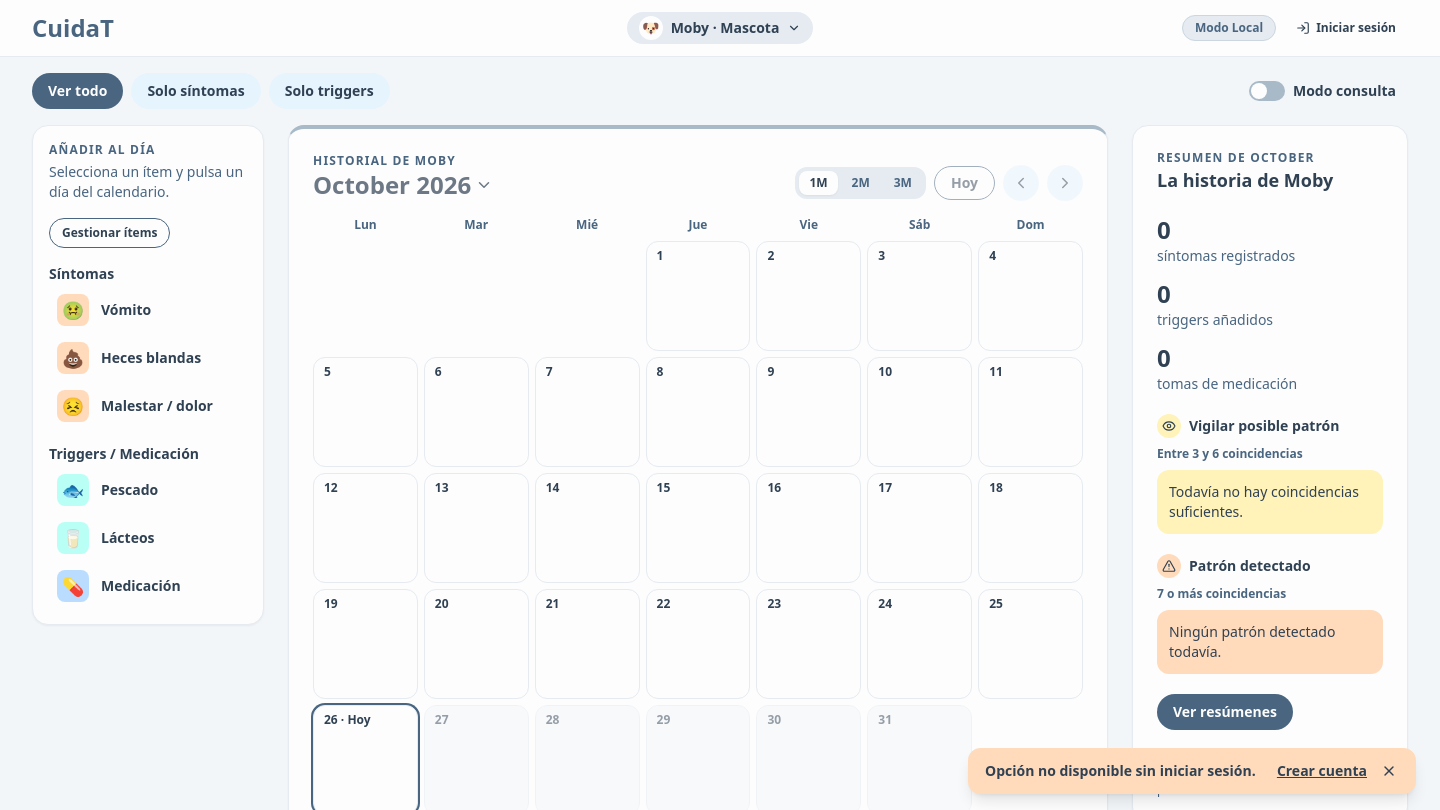
App (Phase 4: calendars, navigation and analytics) › registers without migrating the guest data when the switch is turned off
Click the button "Iniciar sesión" at {"x": 1346, "y": 28}, box [1284,16,1408,40]
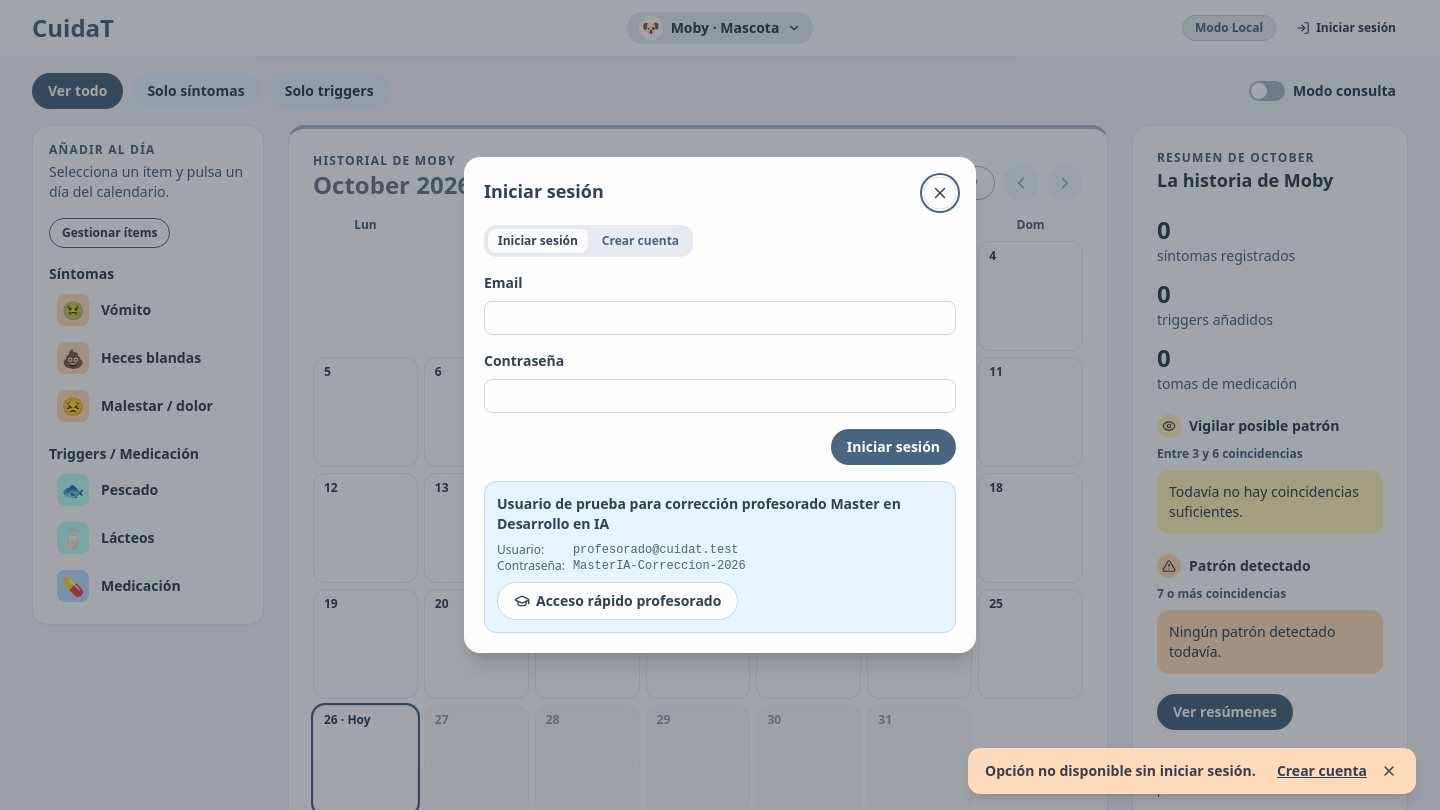
Click the button "Crear cuenta" next to "Mié" at {"x": 641, "y": 241}, box [592,229,689,253]
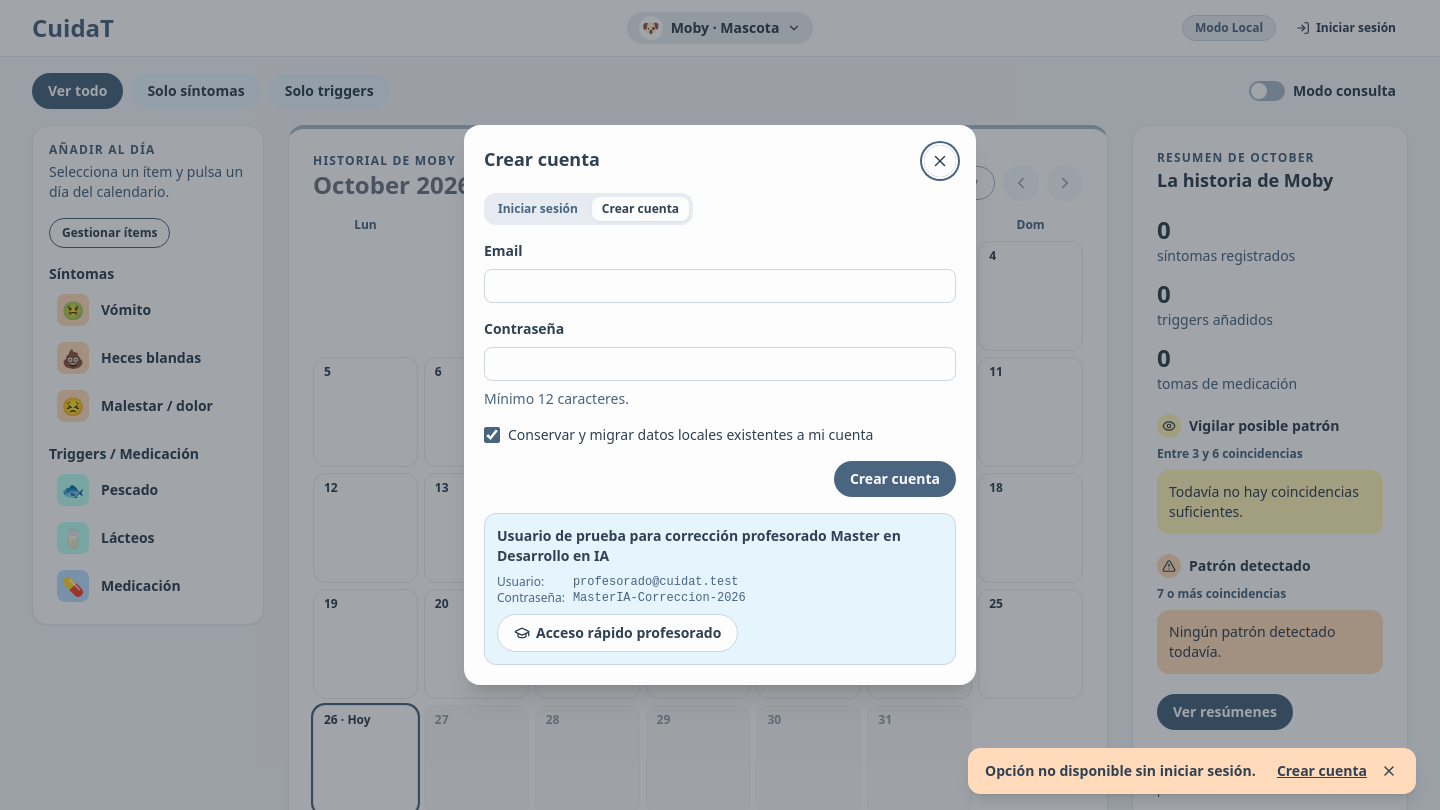
Now the checkbox labelled "Conservar y migrar datos locales existentes a mi cuenta" is checked
Now the dialog shows "Conservar y migrar datos locales existentes a mi cuenta", box [508,425,873,444]
Click the checkbox labelled "Conservar y migrar datos locales existentes a mi cuenta" at {"x": 492, "y": 435}, box [484,427,500,443]
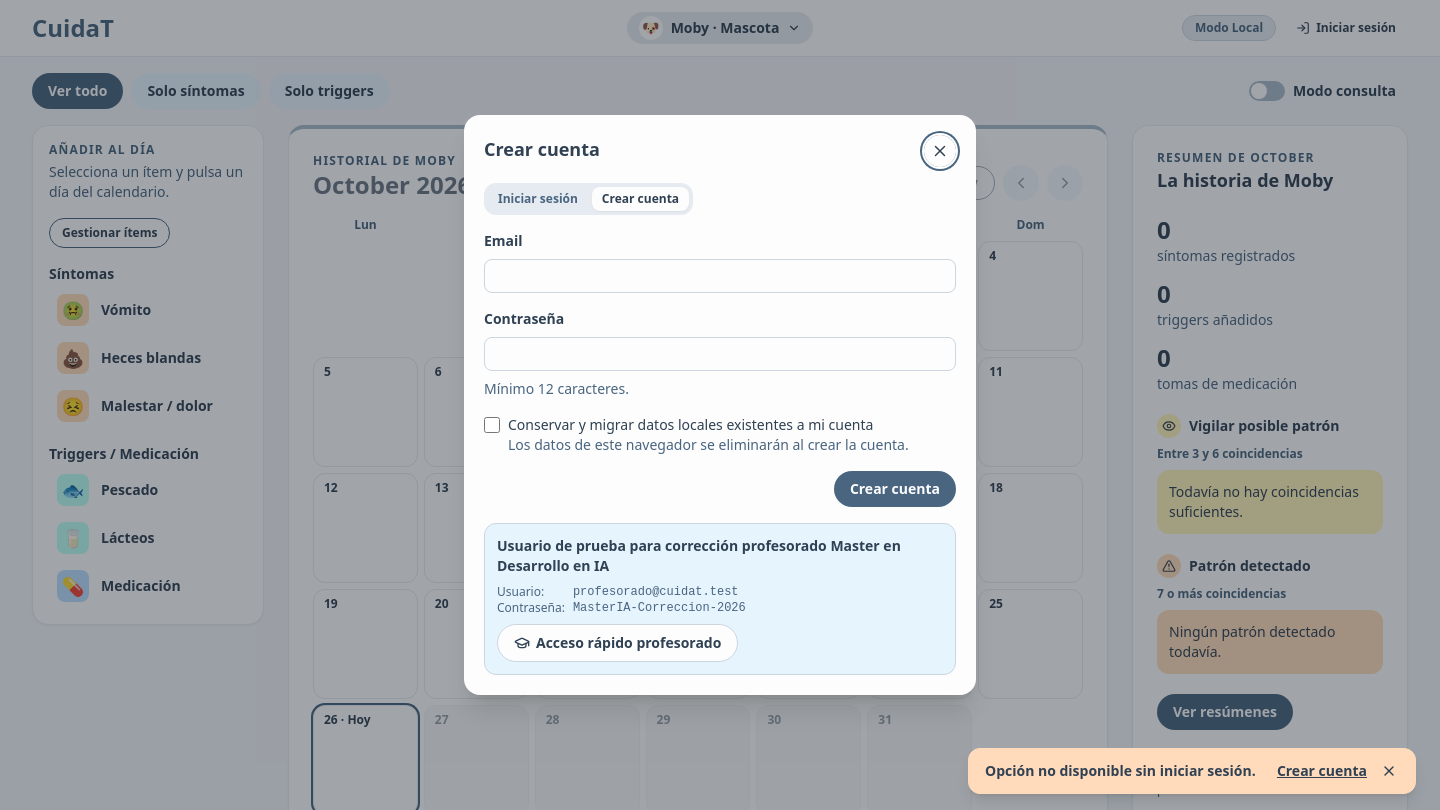
Type "ana@example.com" into the field labelled "Email" at {"x": 720, "y": 276}, box [484,259,956,293]
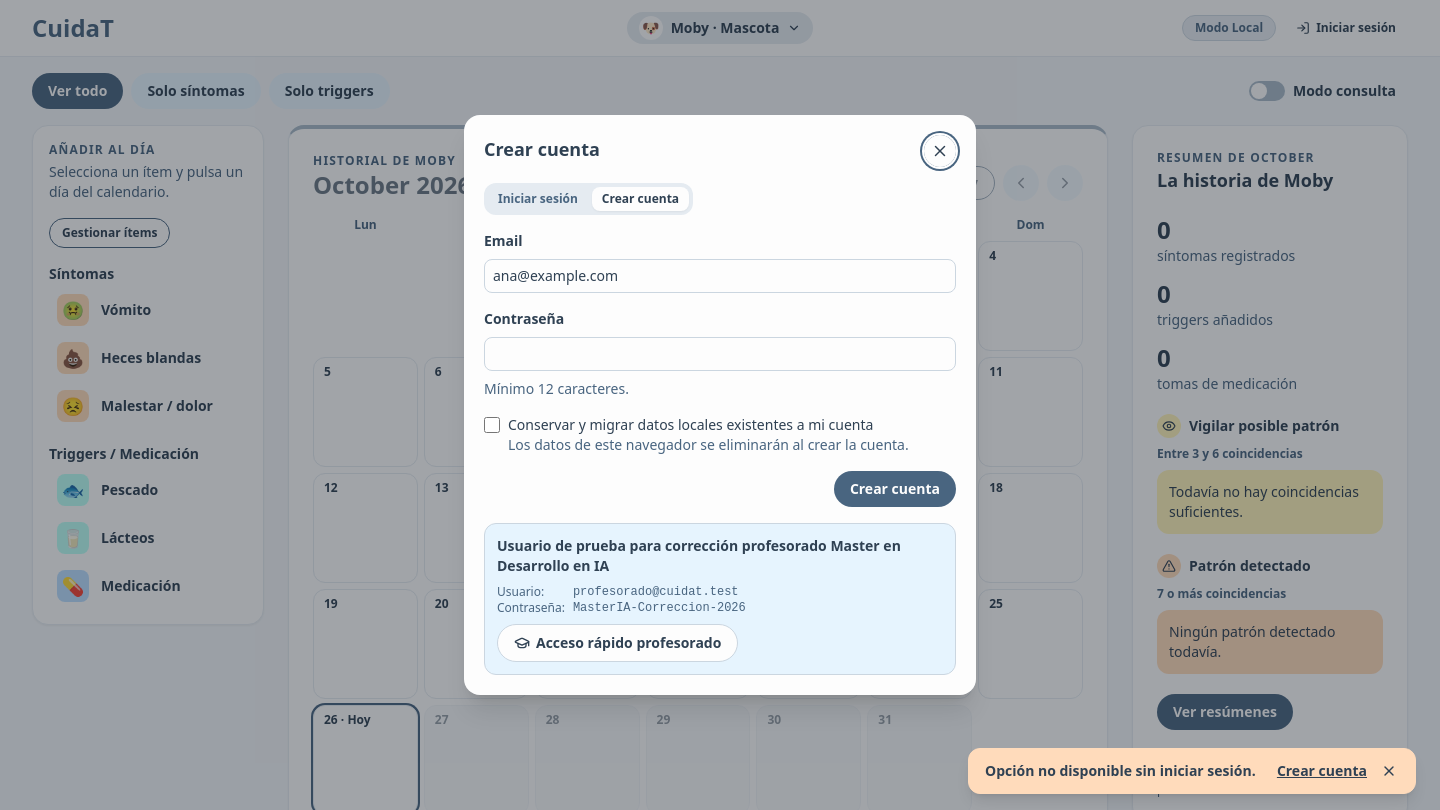
Type "una contraseña larga" into the password field labelled "Contraseña Mínimo 12 caracteres." at {"x": 720, "y": 354}, box [484,337,956,371]
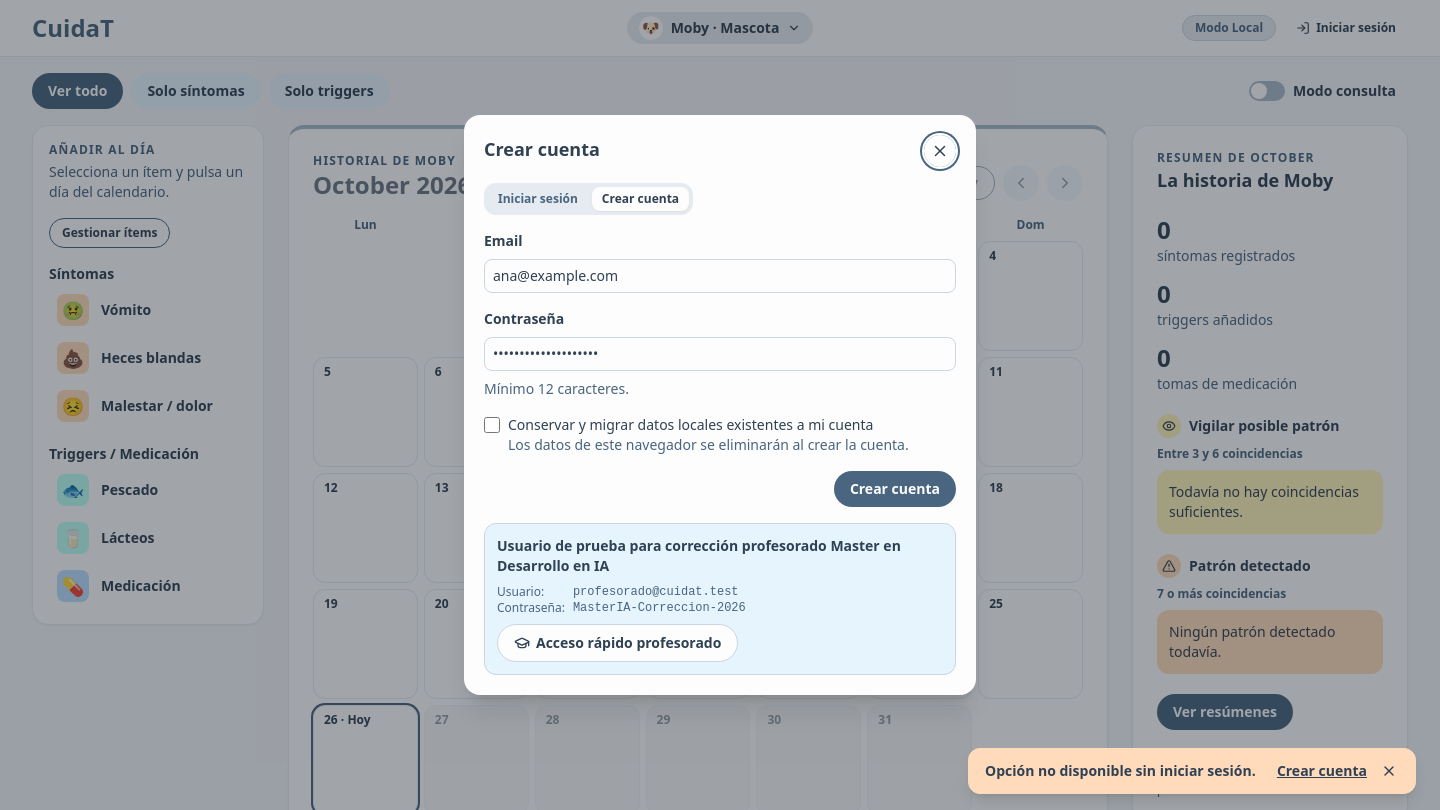
Submit the form, box [484,231,956,507]
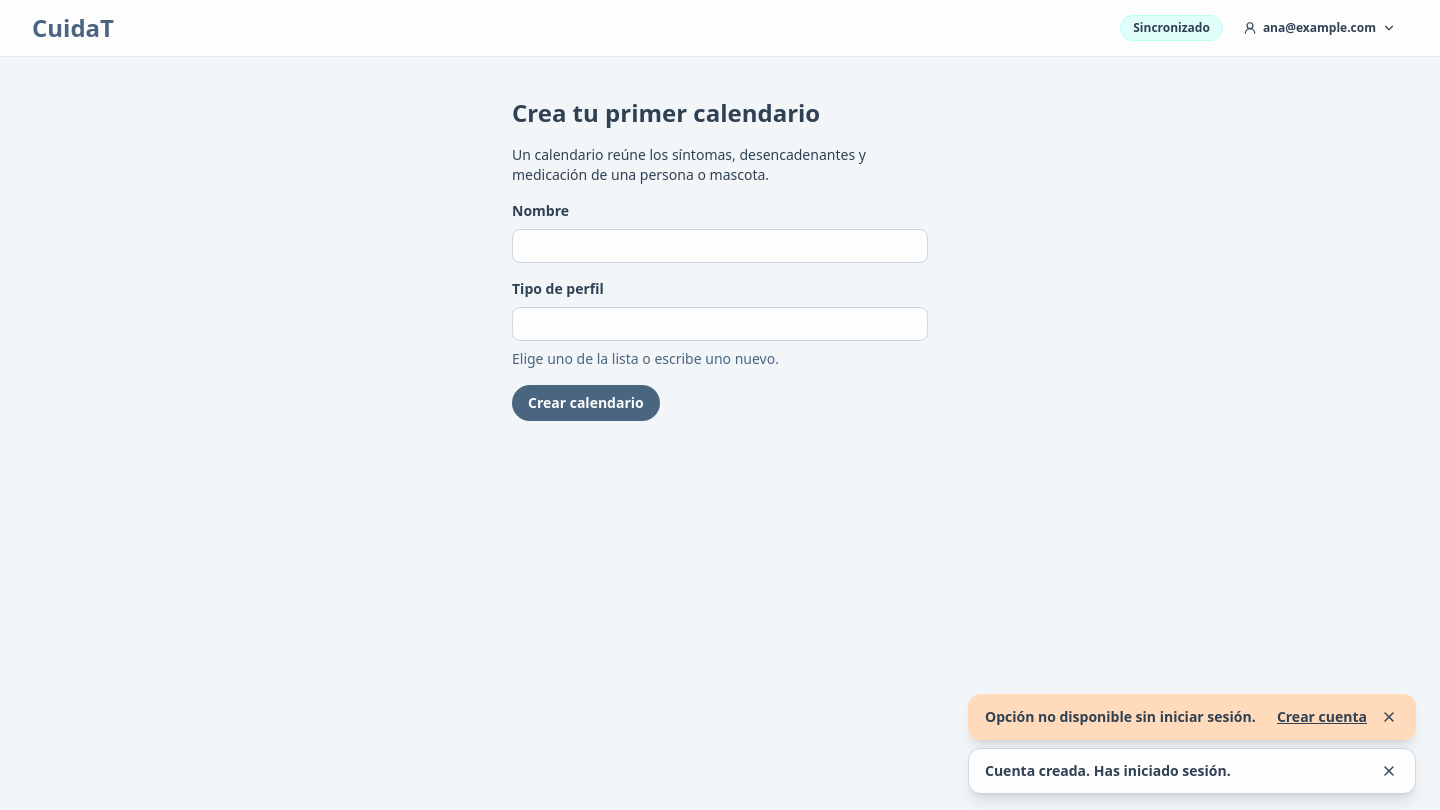
Now the text "Crea tu primer calendario" is shown, box [512,96,820,129]
